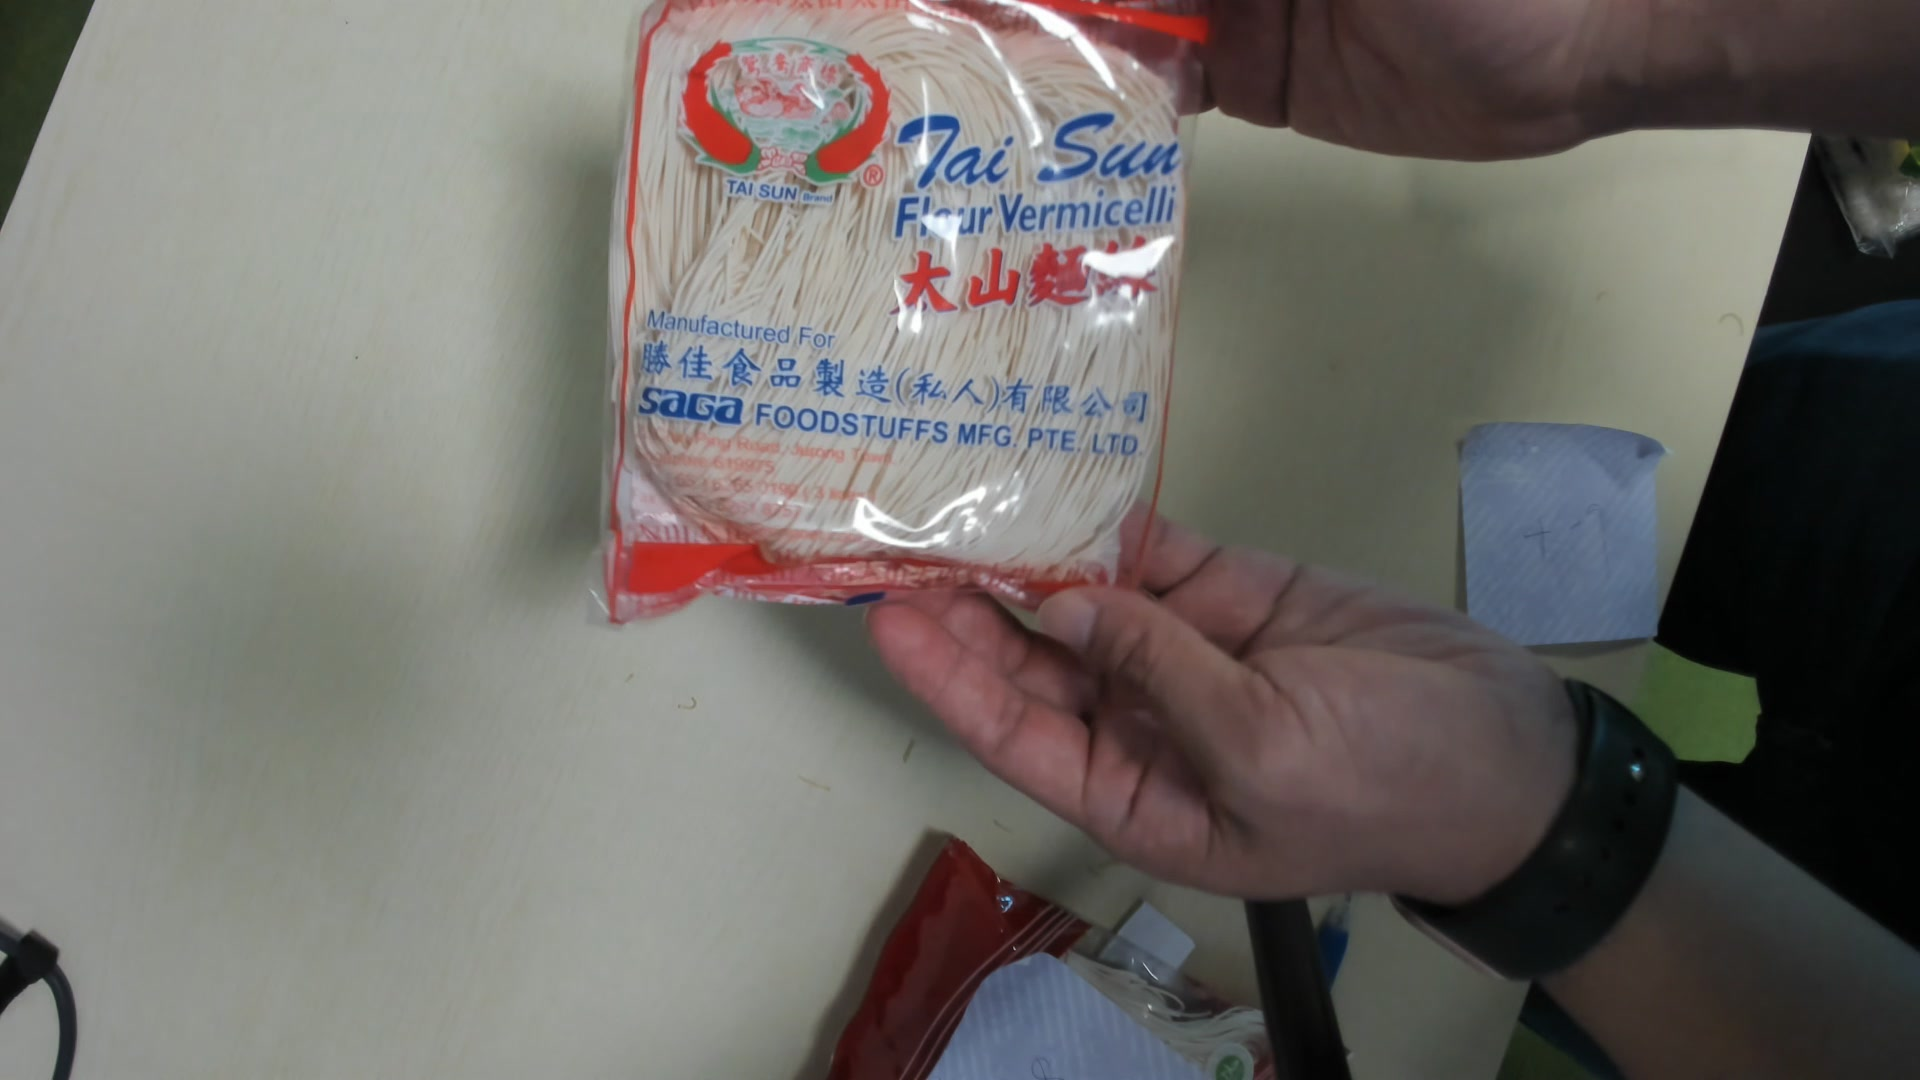BeeHoonVermicelli_100-199g_Halal_NonHealthy: (600, 7, 1207, 620)
